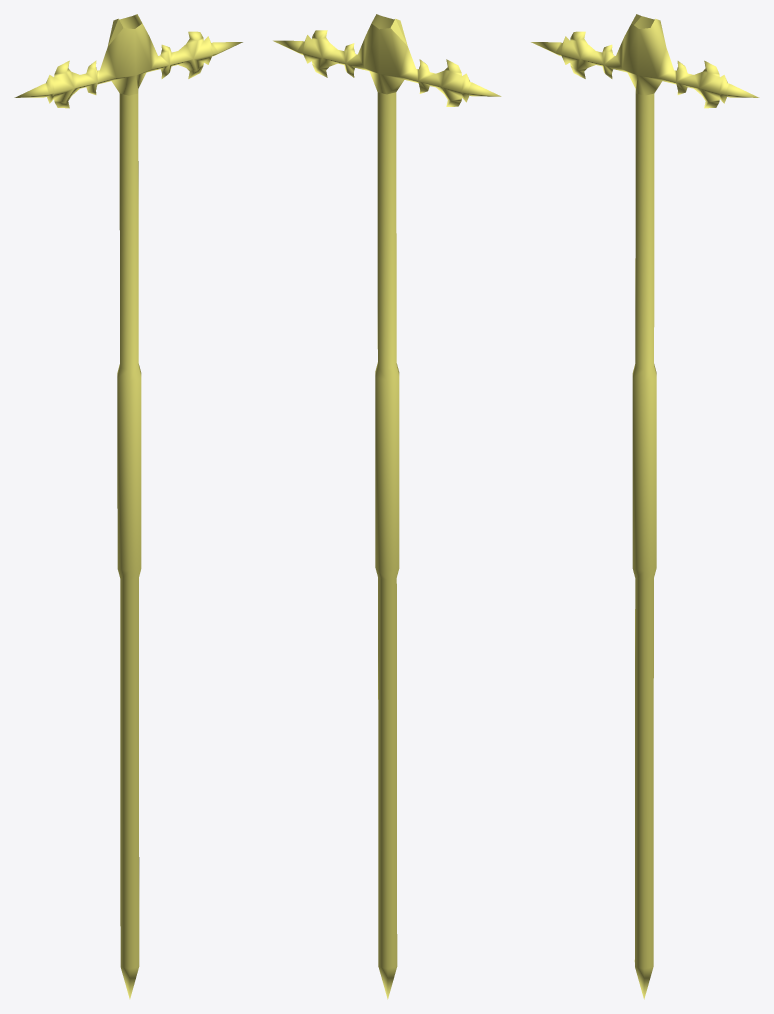
File: Staff_mesh.fbx
The picture shows the model from 3 angles, left to right: view 1: azimuth 30°, elevation 25°; view 2: azimuth 150°, elevation 25°; view 3: azimuth 330°, elevation 25°; orthographic projection.
Parts seen in each view (by area): view 1: Staff_mesh; view 2: Staff_mesh; view 3: Staff_mesh.
Boxes of the visible parts, left/top/right/bottom form: Staff_mesh: left=14, top=14, right=242, bottom=999; Staff_mesh: left=273, top=14, right=501, bottom=999; Staff_mesh: left=531, top=14, right=759, bottom=999.
Bounding box in the file's own units: 70.48 × 7.98 × 288.
